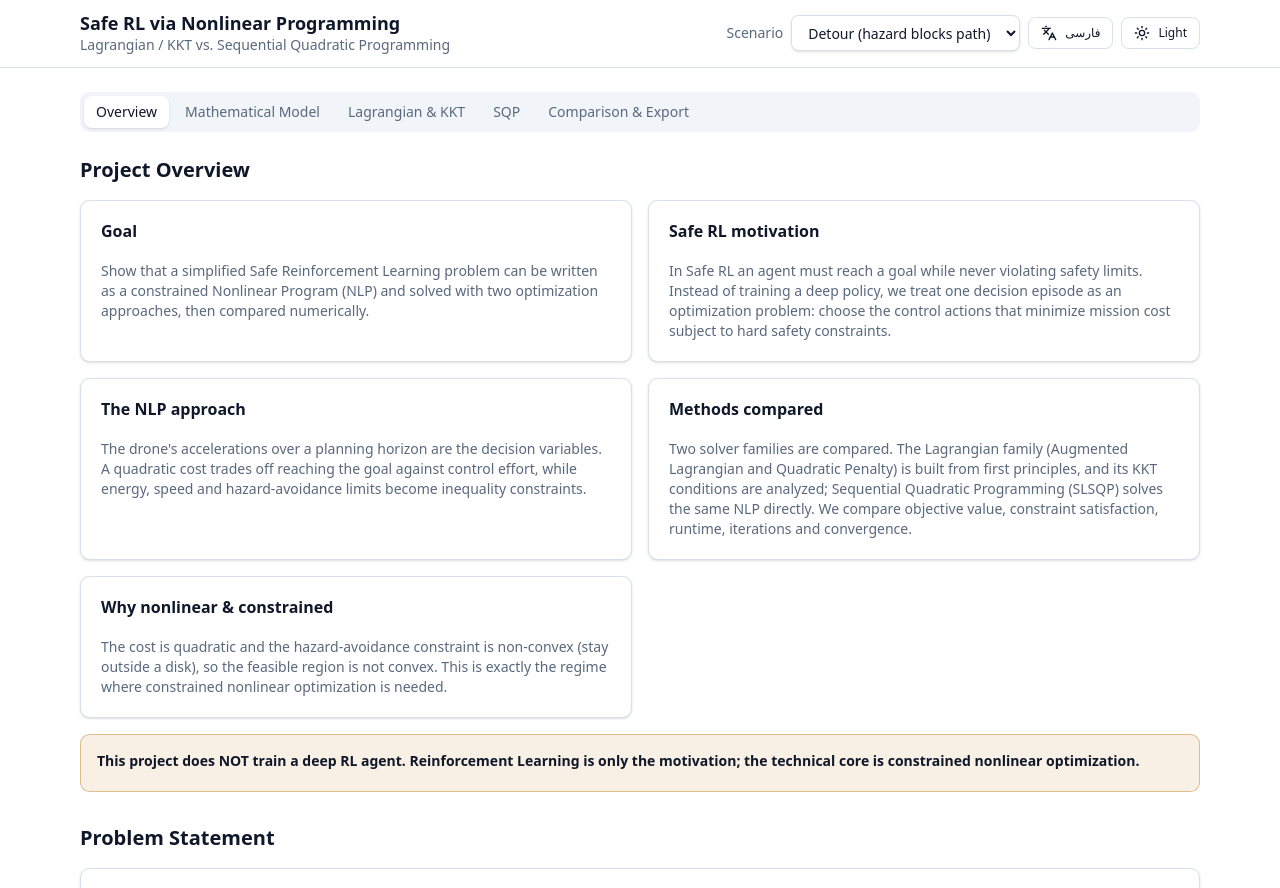
Test: App shell › renders the Lagrangian & KKT results
The width and height of the screenshot is (1280, 888).
Step 1. Click the tab "Lagrangian & KKT" → (407, 112), box [336,96,477,128]
(page scrolled)
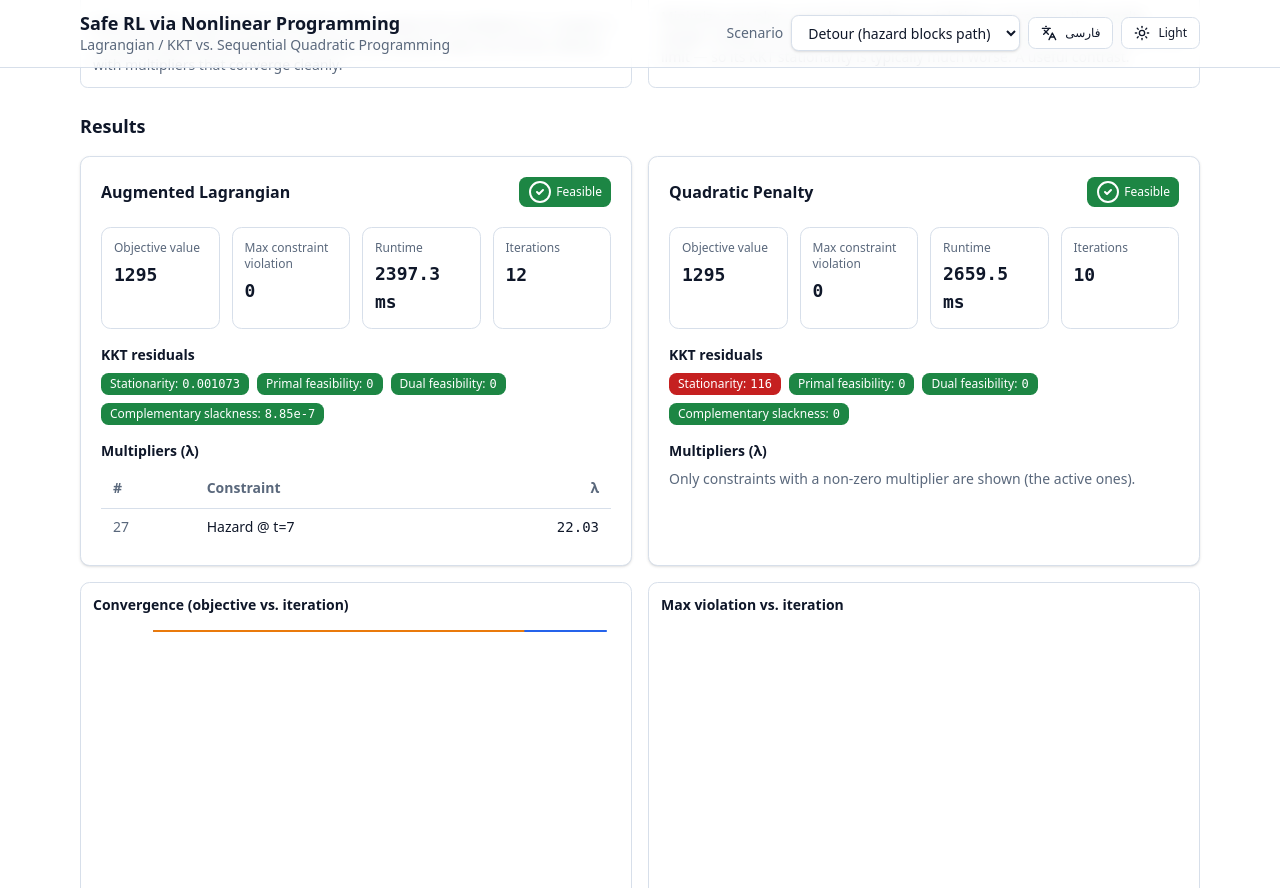
Expected: the heading "Multipliers (λ)" below "8.85e-7" is shown, [101,440,199,460]
